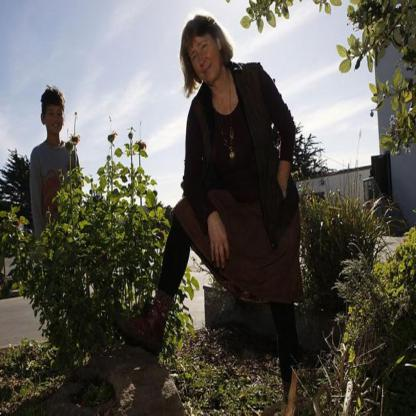face: (189, 35, 220, 83), (47, 103, 64, 134)
